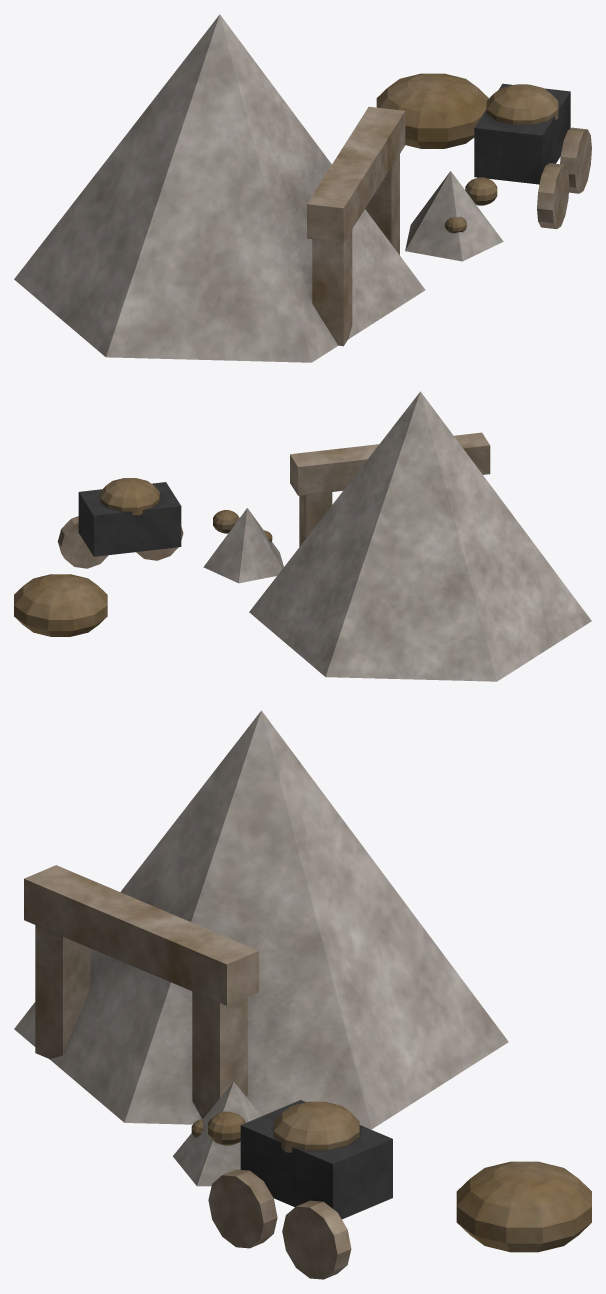
Rendered from res_iron_3.glb.
3 views of the same model, one above another, from view 1: azimuth 30°, elevation 25°; view 2: azimuth 150°, elevation 25°; view 3: azimuth 270°, elevation 25° (orthographic). The views are drawn at different scales.
Visible parts, largest first — view 1: dilek; view 2: dilek; view 3: dilek.
Boxes of the visible parts, left/top/right/bottom form: dilek: left=14, top=14, right=591, bottom=362; dilek: left=14, top=391, right=591, bottom=681; dilek: left=14, top=710, right=591, bottom=1279.
Bounding box in the file's own units: 1.2 × 0.5805 × 0.8859.
Materials: 1 (1 with a texture image).
